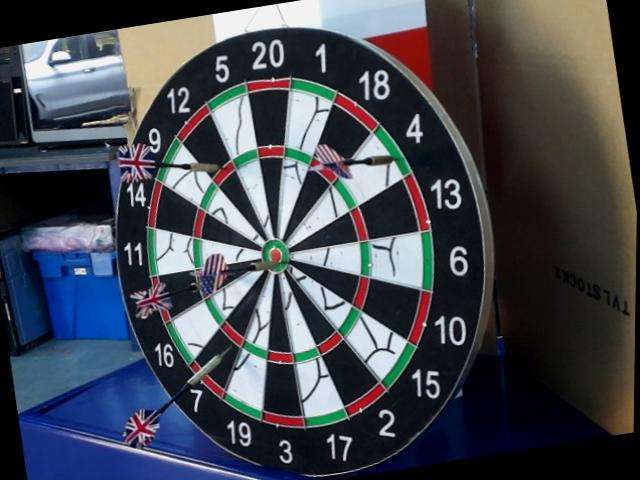bullseye: (261, 239, 290, 273)
double_4: (376, 127, 410, 177)
single_7: (196, 333, 238, 368), (213, 373, 227, 385)
triple_12: (210, 164, 235, 185)
